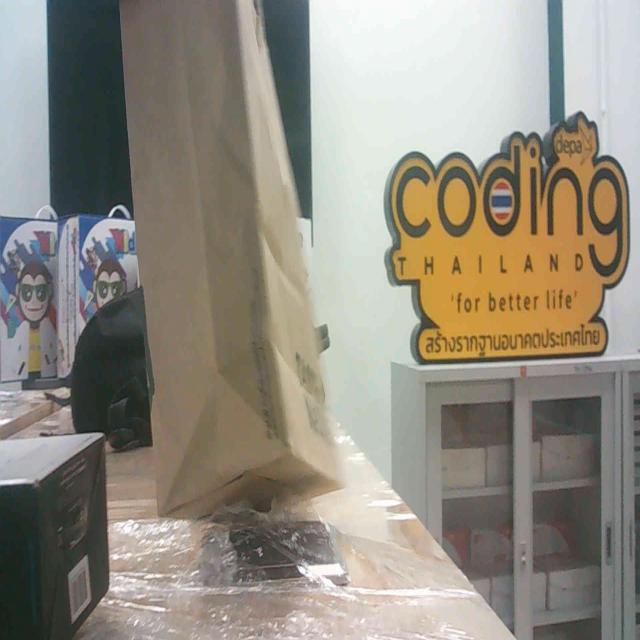bag: (110, 0, 336, 519)
